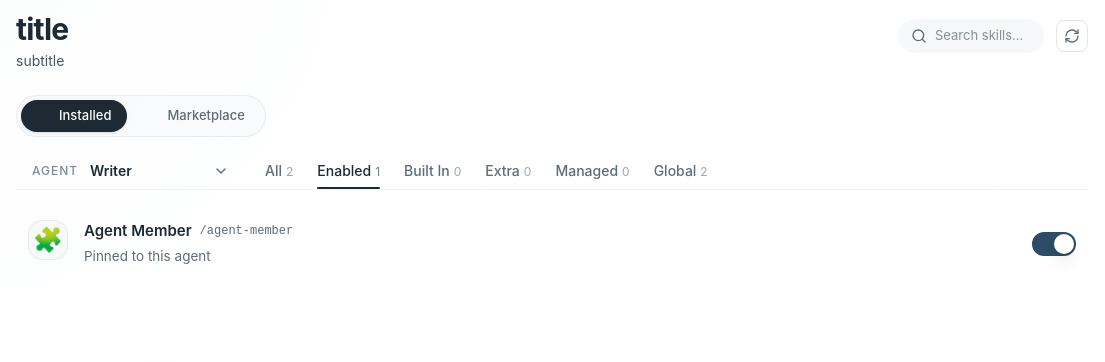
Test: skills page manual membership editing › uses agent manual membership instead of gateway enabled state for installed switches
Click the button "All2".
click(279, 174)  # box [265,160,293,188]
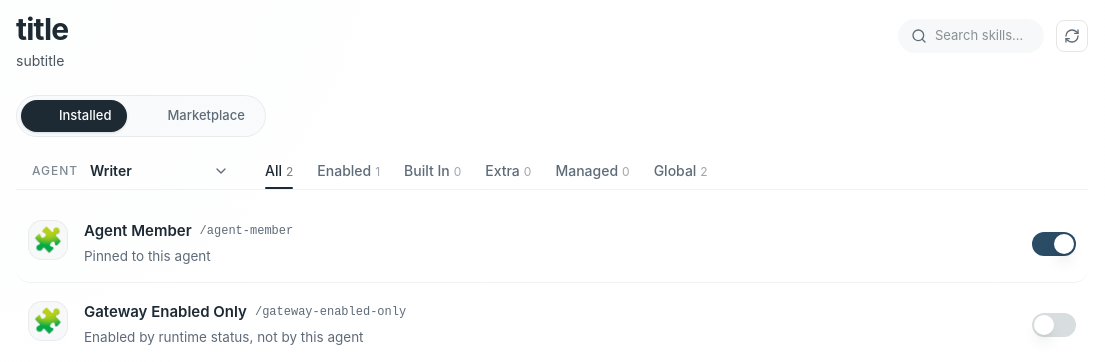
Expected: the text "Agent Member" is shown, [84,220,192,240]
Expected: the text "Gateway Enabled Only" is shown, [84,302,247,321]
